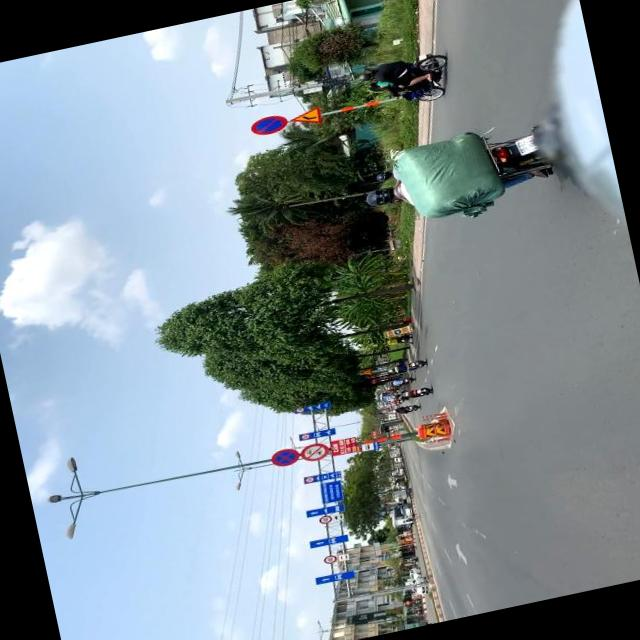P-130: (269, 445, 300, 468)
P-131a: (250, 110, 288, 136)
W-207b: (287, 104, 321, 128)
